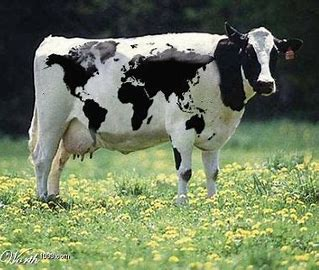waka: (1, 22, 300, 215)
